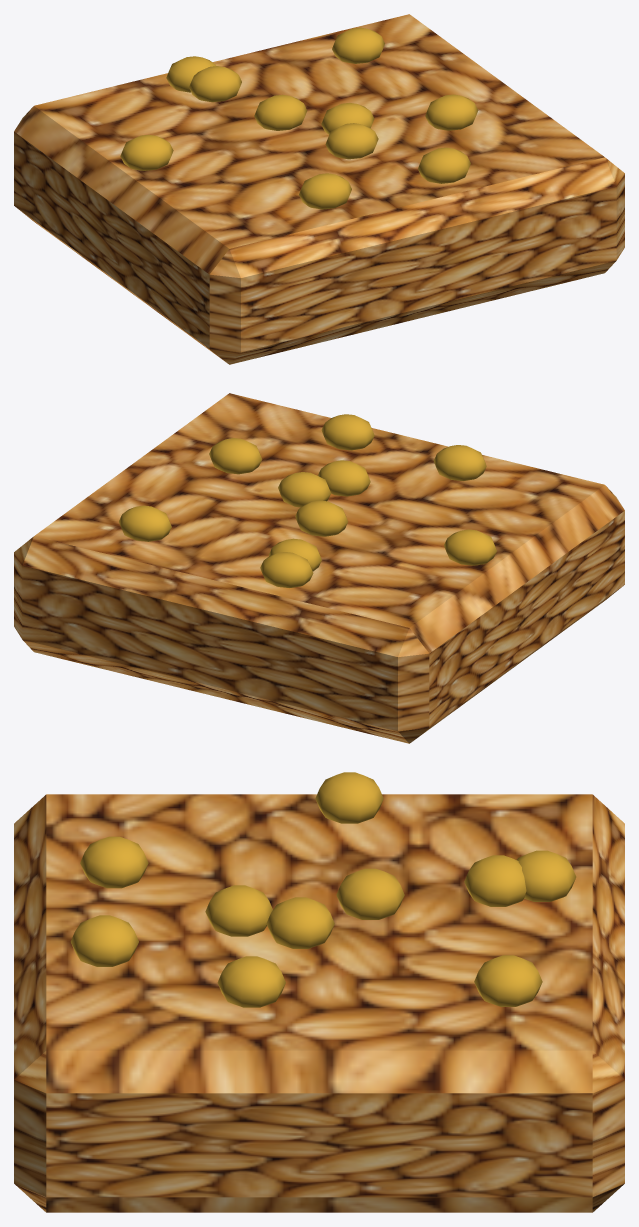
File: CoopCozy_Fill2.fbx
3 views of the same model, one above another, from view 1: azimuth 30°, elevation 25°; view 2: azimuth 150°, elevation 25°; view 3: azimuth 270°, elevation 25° (orthographic). The views are drawn at different scales.
Visible parts, largest first — view 1: CoopCozy_Fill2; view 2: CoopCozy_Fill2; view 3: CoopCozy_Fill2.
Part boxes in pixels (x1,y1,x2,y2): CoopCozy_Fill2: [14, 14, 624, 364]; CoopCozy_Fill2: [14, 393, 624, 743]; CoopCozy_Fill2: [14, 772, 624, 1212].
Size of the model in its own units: 0.45 by 0.146 by 0.41.
